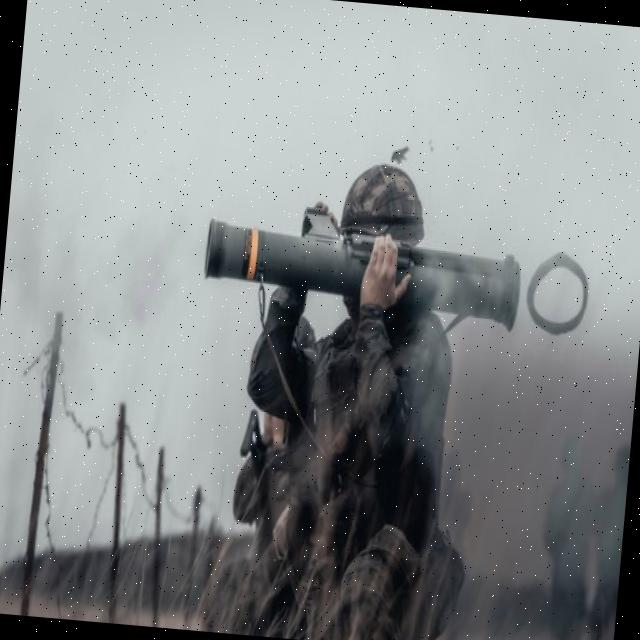Bazooka: (196, 201, 540, 338)
